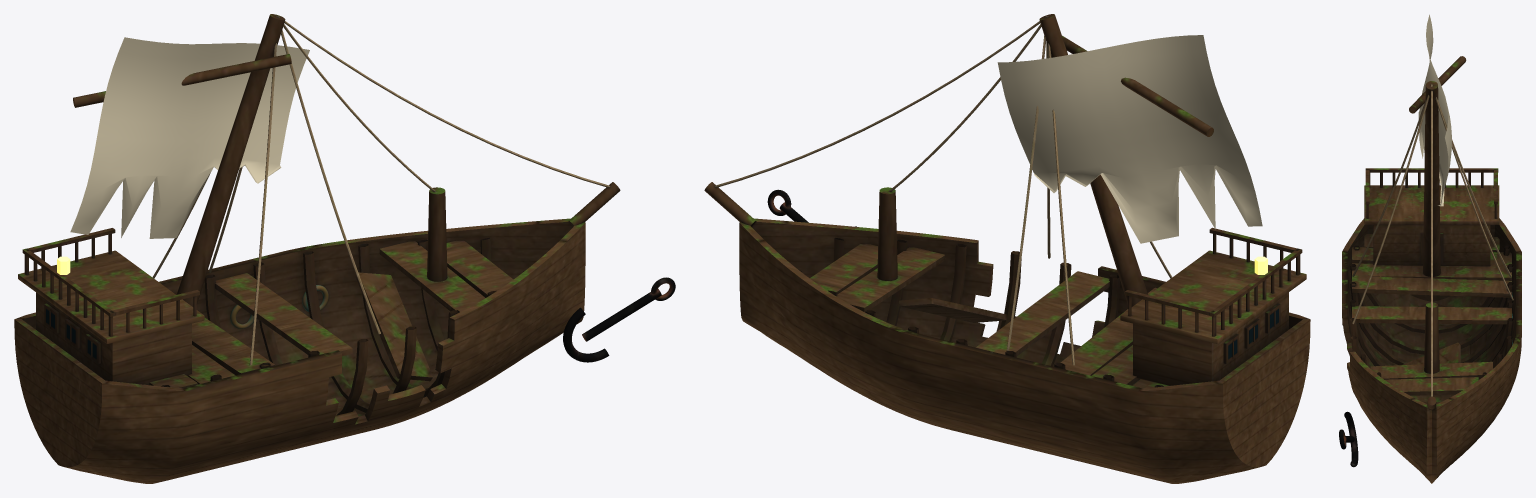
The model's file is ship.glb.
3 renders of one model, left to right at view 1: azimuth 30°, elevation 25°; view 2: azimuth 150°, elevation 25°; view 3: azimuth 270°, elevation 25°, orthographic. The views are drawn at different scales.
Parts seen in each view (by area): view 1: Ship, SwaySail; view 2: Ship, SwaySail; view 3: Ship, SwaySail.
Boxes of the visible parts, x1=… form: Ship: x1=14, y1=14, x2=675, y2=483; SwaySail: x1=70, y1=37, x2=309, y2=238; Ship: x1=704, y1=14, x2=1310, y2=483; SwaySail: x1=997, y1=35, x2=1262, y2=243; Ship: x1=1339, y1=56, x2=1521, y2=483; SwaySail: x1=1418, y1=14, x2=1451, y2=206.
Bounding box in the file's own units: 4.35 × 3.27 × 1.63.
3 materials, 1 textured.
